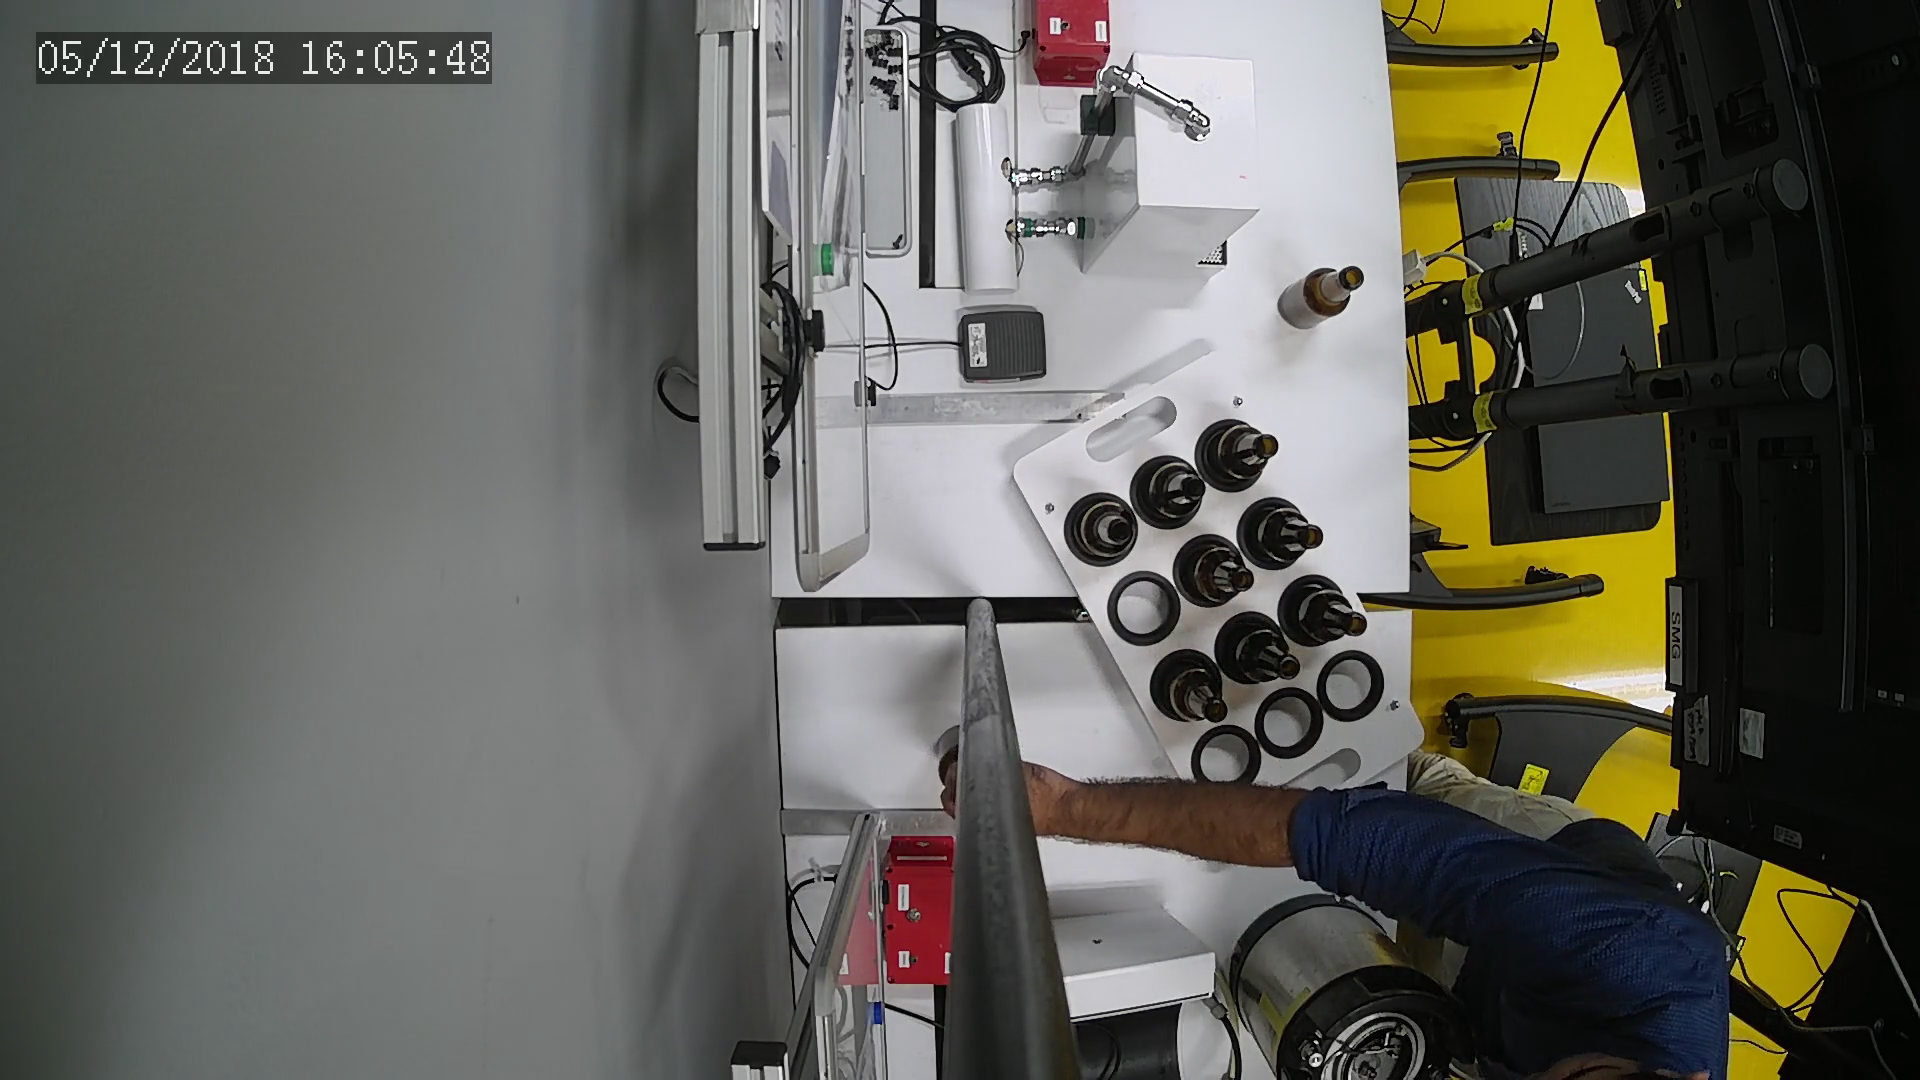filled_bottle: (1216, 613, 1308, 691), (1279, 574, 1371, 649), (1245, 498, 1329, 574), (1174, 534, 1258, 609), (1154, 651, 1233, 728), (1133, 455, 1211, 530), (1204, 418, 1283, 491), (1065, 495, 1143, 566)
trolley: (1014, 345, 1428, 847)
unfilled_bottle: (1276, 265, 1370, 332)
